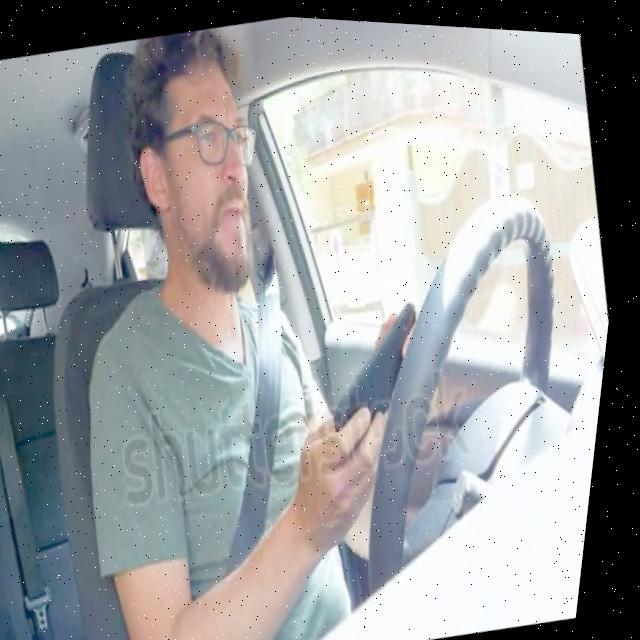PhoneCall: (318, 284, 448, 447)
